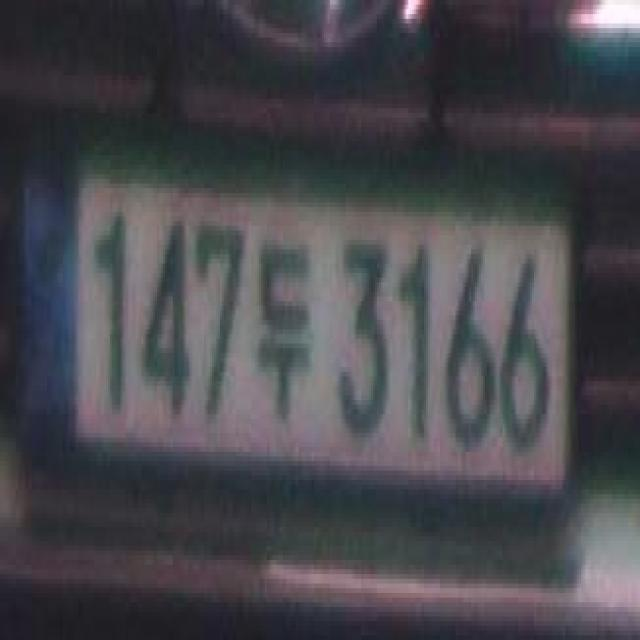illegal_plate: (6, 109, 582, 540)
